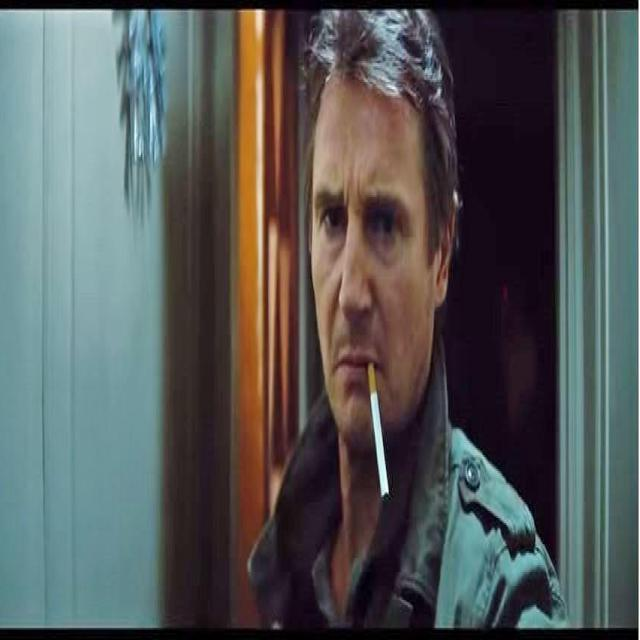cigarette: (360, 346, 394, 522)
